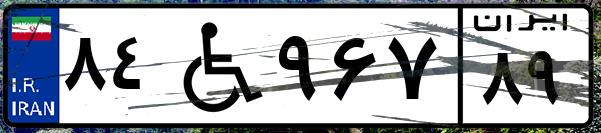4: (110, 28, 158, 98)
6: (330, 28, 385, 110)
7: (385, 28, 445, 110)
8: (57, 26, 110, 100), (475, 38, 525, 113)
9: (270, 28, 330, 110), (525, 38, 570, 115)
ژ (معلولین و جانبازان): (158, 12, 270, 120)
